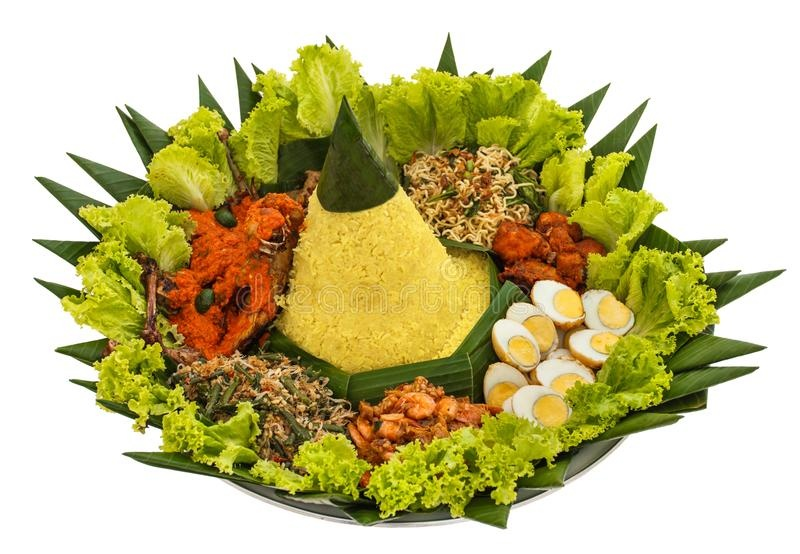nasi_tumpeng: (147, 90, 637, 469)
